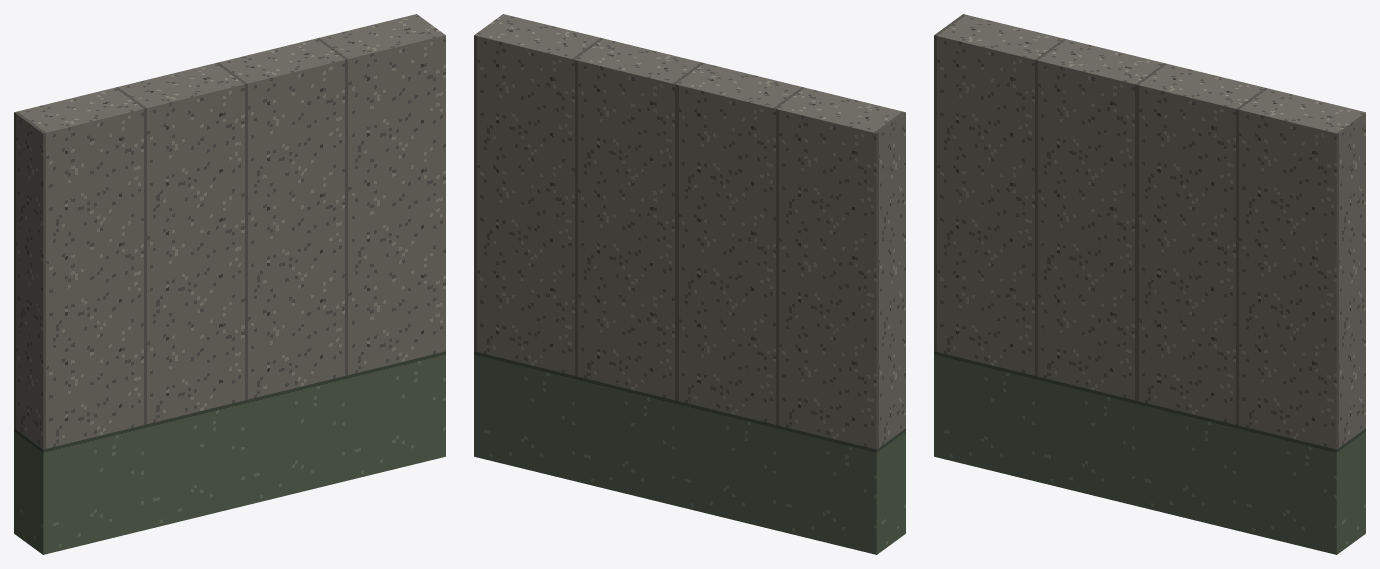
Rendered from wall.glb.
3 views of the same model, side by side, from view 1: azimuth 30°, elevation 25°; view 2: azimuth 150°, elevation 25°; view 3: azimuth 330°, elevation 25° (orthographic).
Parts seen in each view (by area): view 1: wall mesh; view 2: wall mesh; view 3: wall mesh.
Part boxes in pixels (x1,y1,x2,y2): wall mesh: (14,14,445,554); wall mesh: (474,14,905,554); wall mesh: (934,14,1365,554).
Bounding box in the file's own units: 4 × 4 × 0.5.
2 materials, 2 textured.
